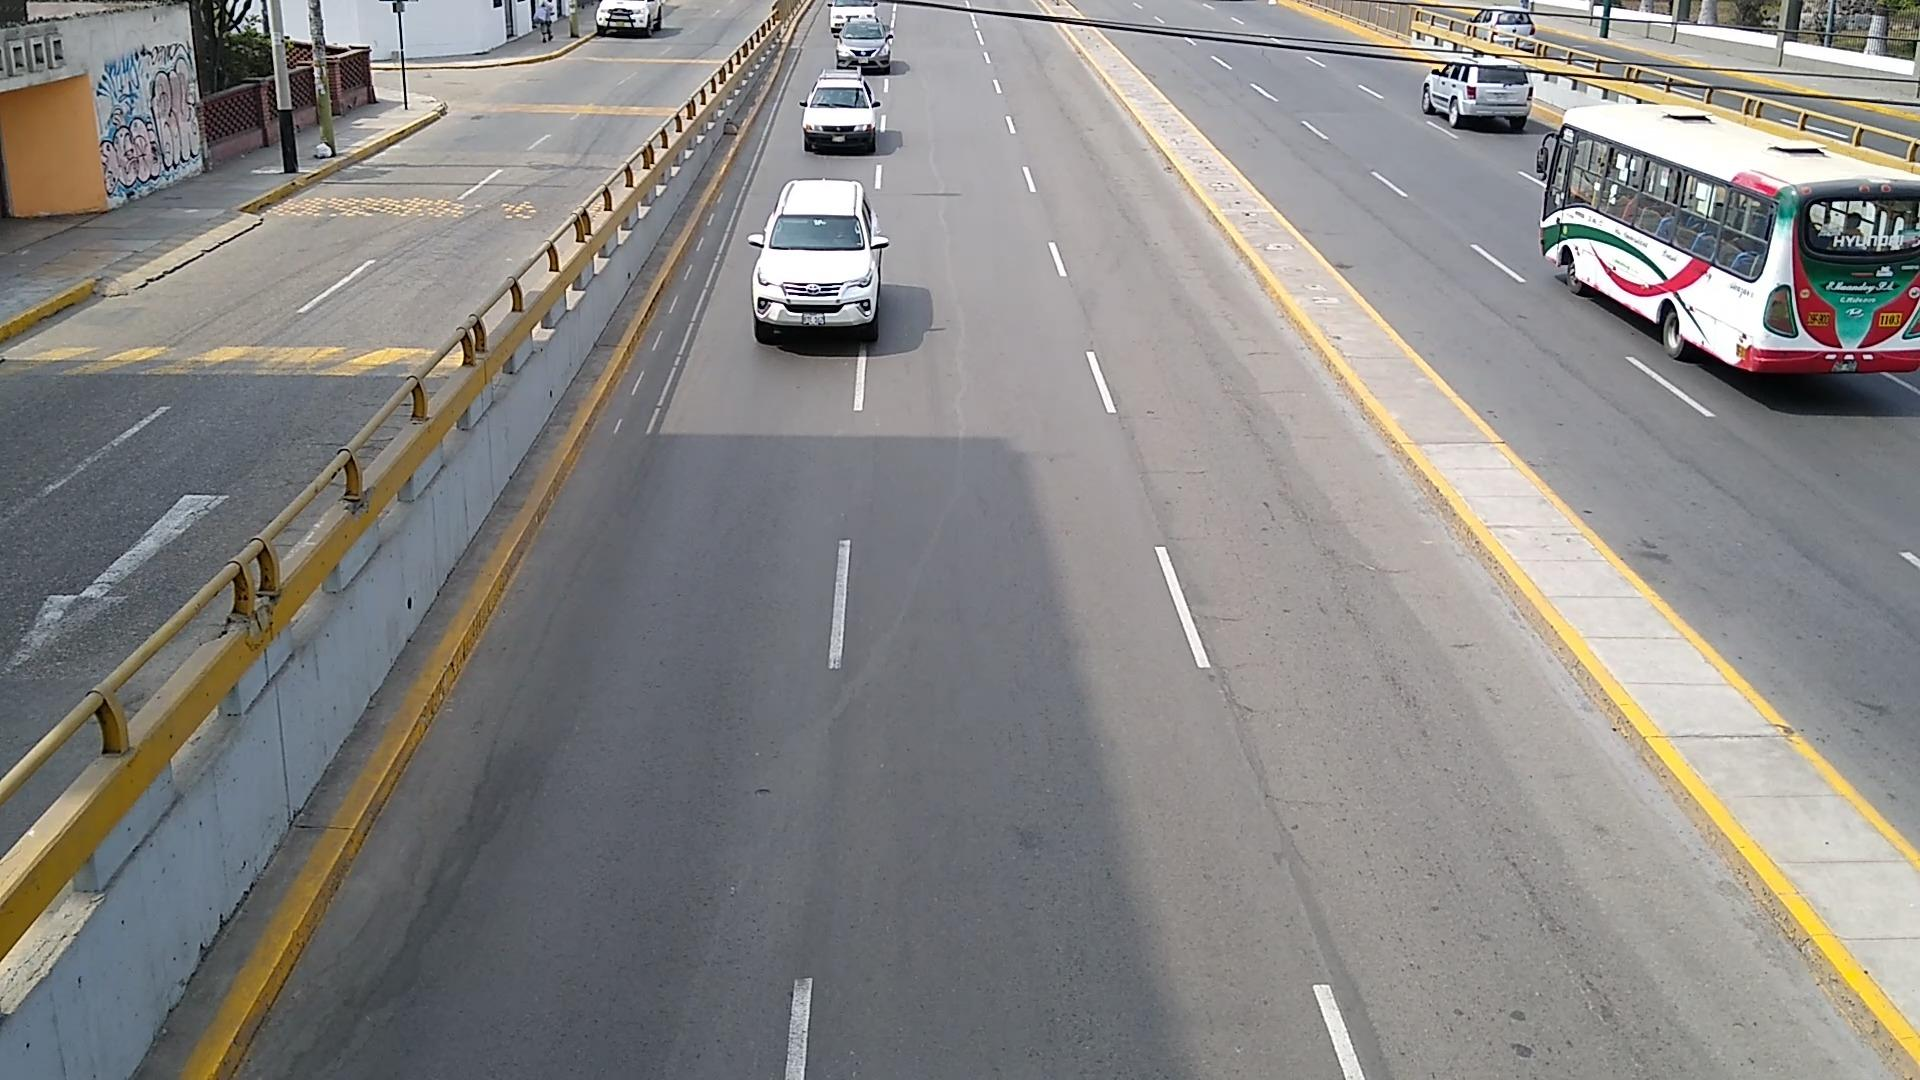bus: (1538, 105, 1920, 375)
car: (750, 180, 885, 345), (1421, 60, 1534, 131), (802, 71, 878, 150), (836, 19, 892, 73), (596, 0, 664, 38)
